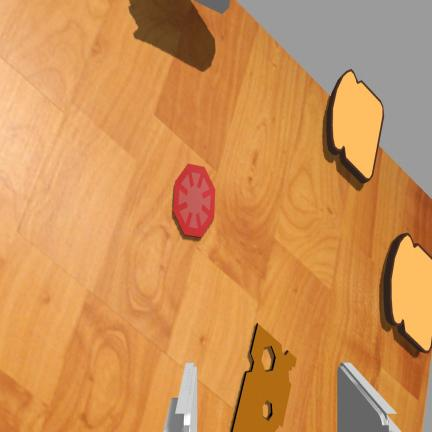cheese: (232, 323, 296, 431)
lettuce: (195, 0, 230, 13)
sliced_bread: (327, 70, 383, 182), (384, 233, 432, 352)
sliced_tomato: (173, 164, 215, 237)
